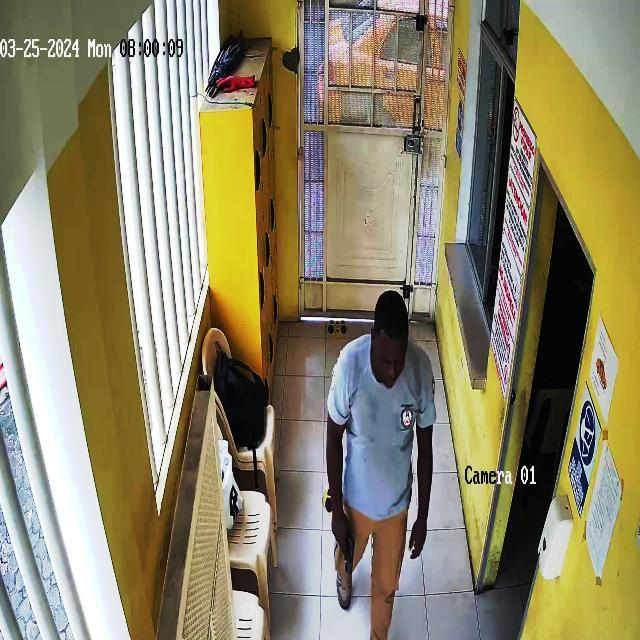Gun: (321, 512, 365, 579)
